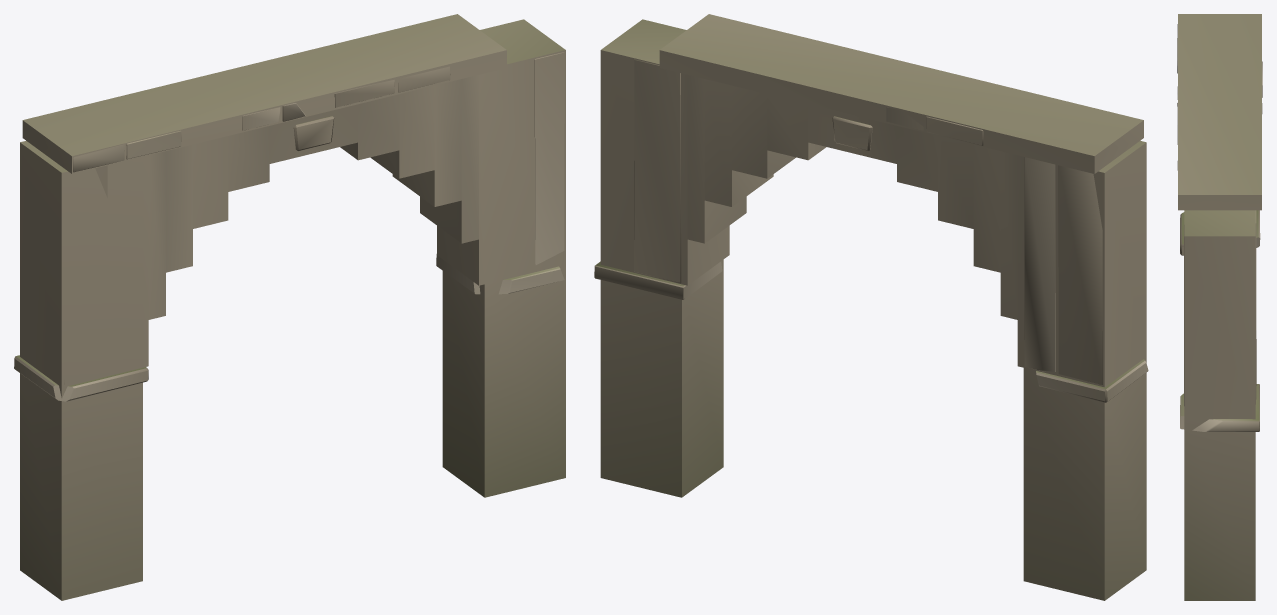
File: street_arch.glb
3 views of the same model, side by side, from view 1: azimuth 30°, elevation 25°; view 2: azimuth 150°, elevation 25°; view 3: azimuth 270°, elevation 25° (orthographic). The views are drawn at different scales.
Parts seen in each view (by area): view 1: street_arch_far, street_arch; view 2: street_arch_far, street_arch; view 3: street_arch_far, street_arch.
Part boxes in pixels (x1,y1,x2,y2): street_arch_far: (20,14,565,600); street_arch: (14,52,564,401); street_arch_far: (600,14,1146,600); street_arch: (594,59,1148,402); street_arch_far: (1178,14,1261,600); street_arch: (1177,24,1262,431).
Size of the model in its own units: 24.01 by 19.95 by 4.07.
